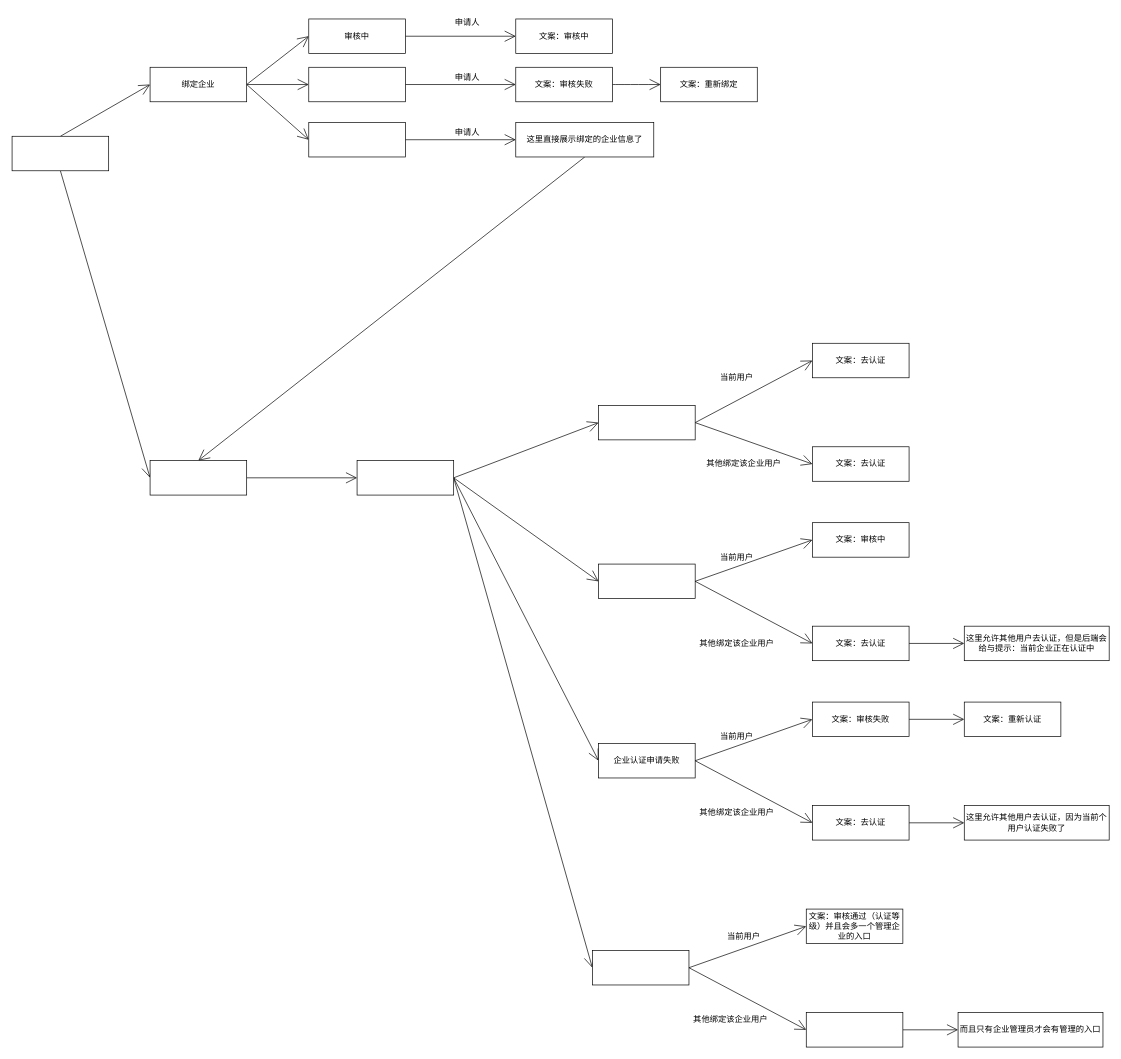
The diagram is 1121 pixels wide and 1059 high, and some of its shapes have lost their labels. Here are the shapes that lost their labels. From the top down, the centre of each, then its label:
point (356, 84): 审核失败
point (60, 153): 个人中心我的企业模块
point (356, 139): 审核通过
point (646, 422): 企业未认证
point (198, 477): 绑定企业的企业信息
point (405, 477): 企业认证状态
point (646, 581): 当前用户申请企业认证
point (640, 967): 企业认证申请通过
point (854, 1029): 文案：企业已认证（包括企业认证等级）
